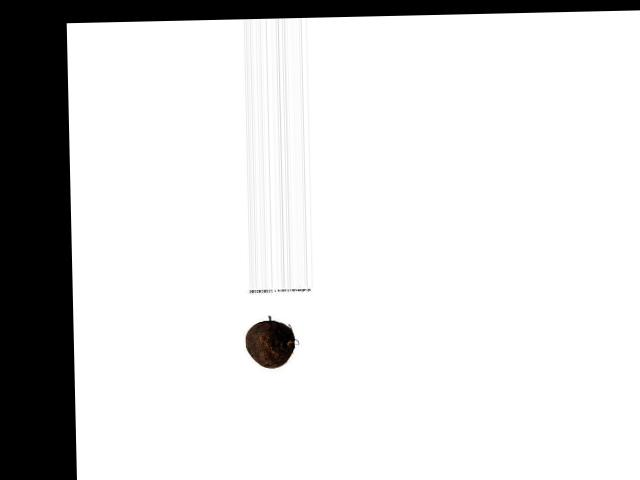beet: (244, 320, 294, 368)
